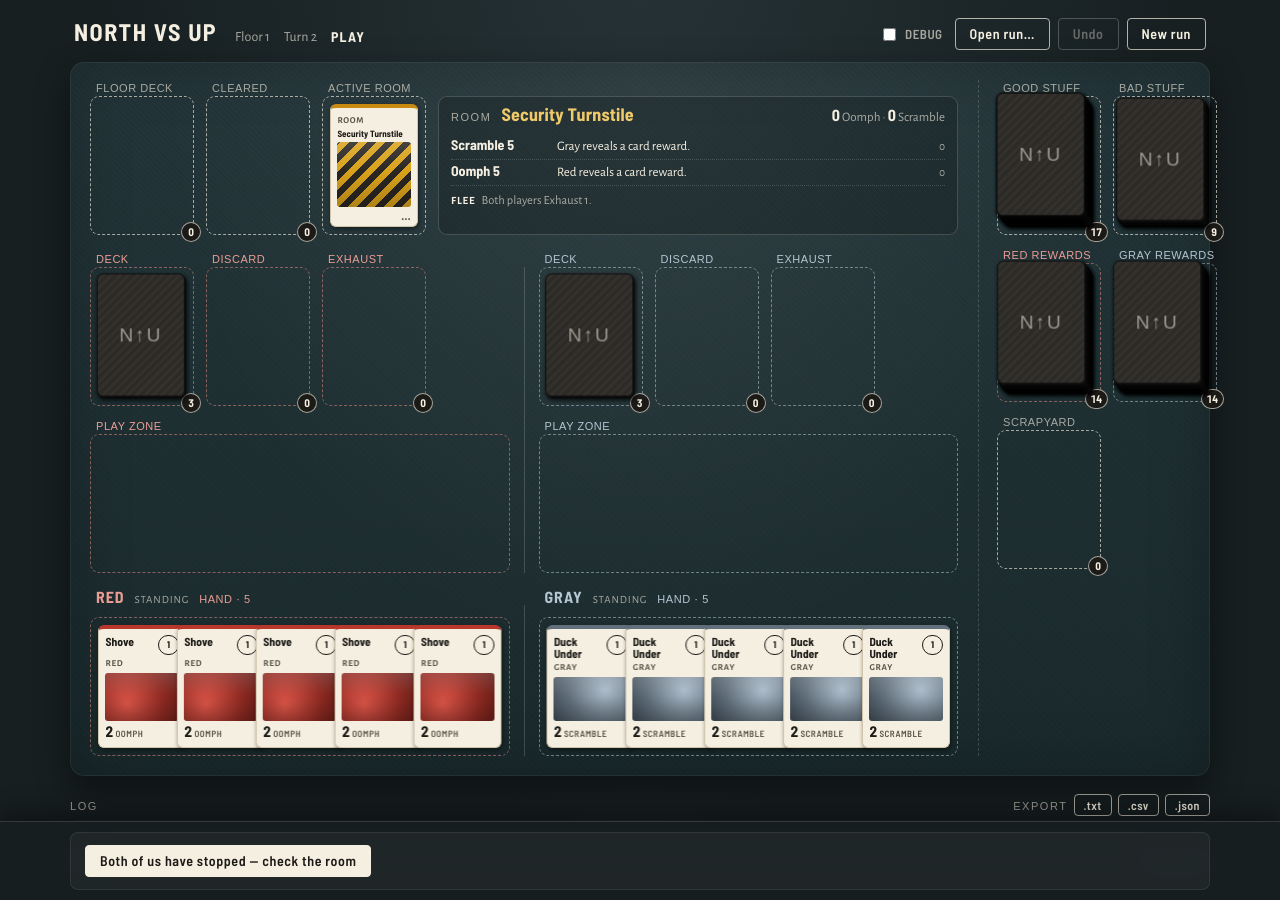
Test: with a pointer › zooms a face-up card that is not a button from the keyboard
The image size is (1280, 900).
Focus the element showing "Room Security Turnstile …": (374, 166) [330,104,418,227]
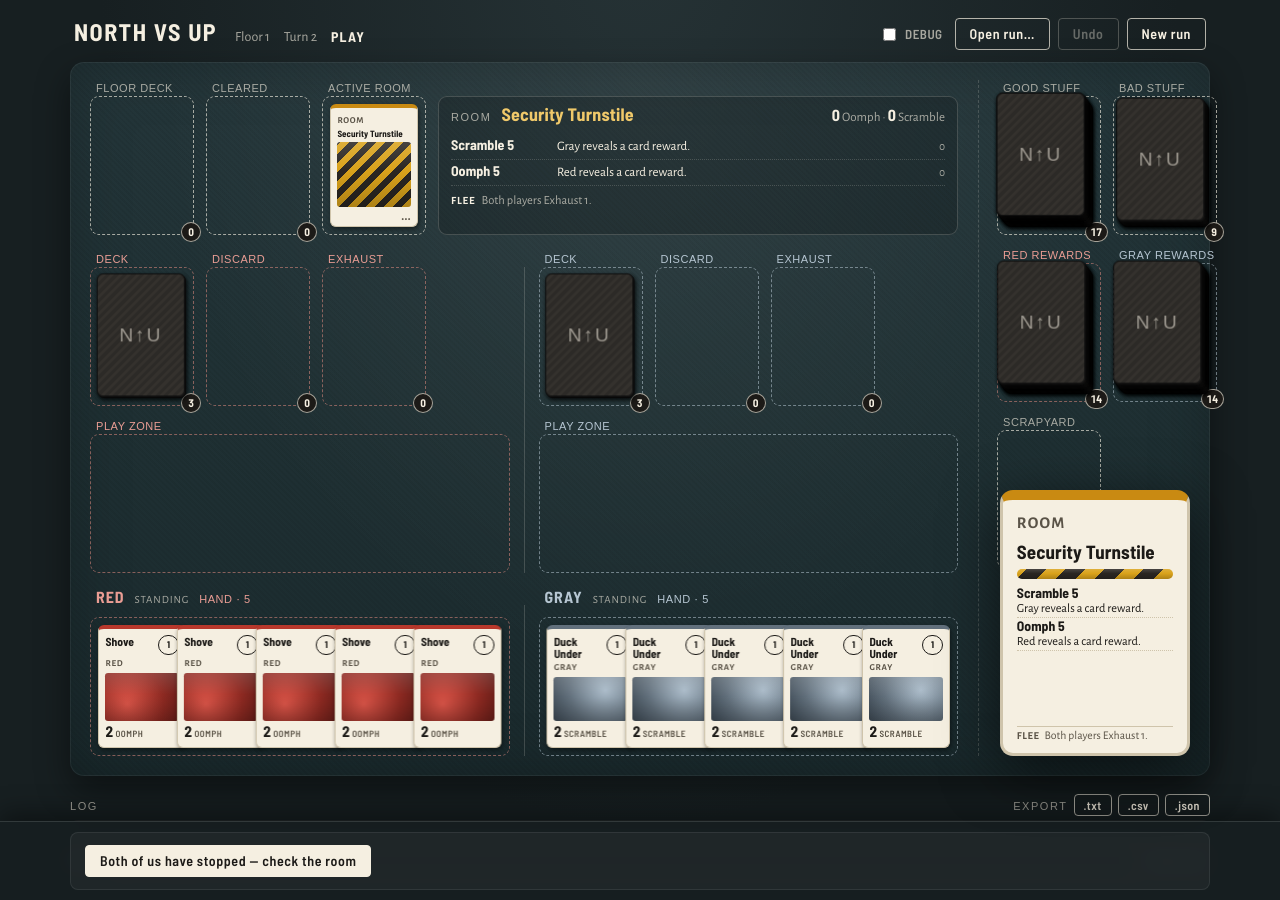
Result: the element with class "inspector" is shown at [1000,490,1190,756]
Leave the element showing "Room Security Turnstile …", box [330,104,418,227]
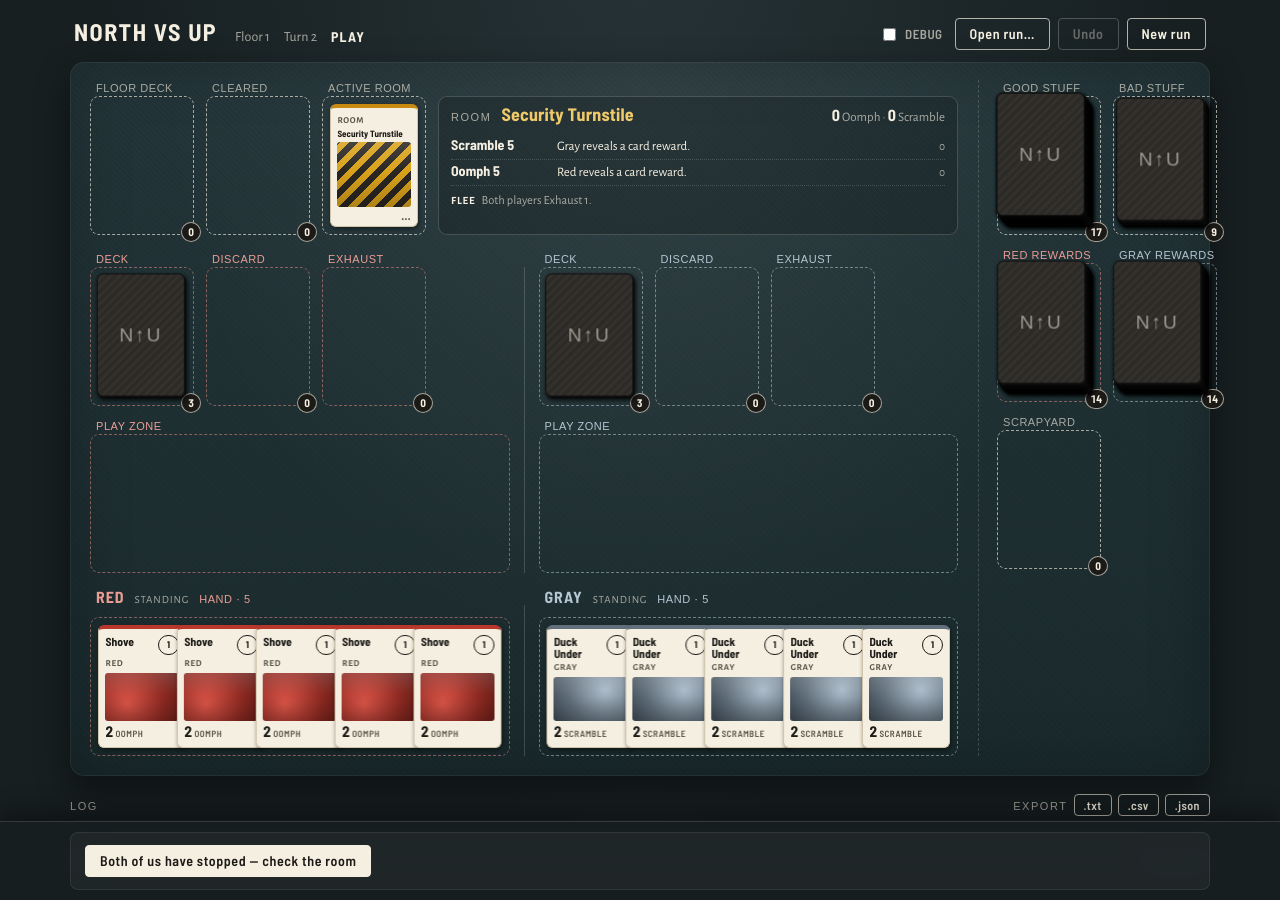
Result: the element with class "inspector" is gone
